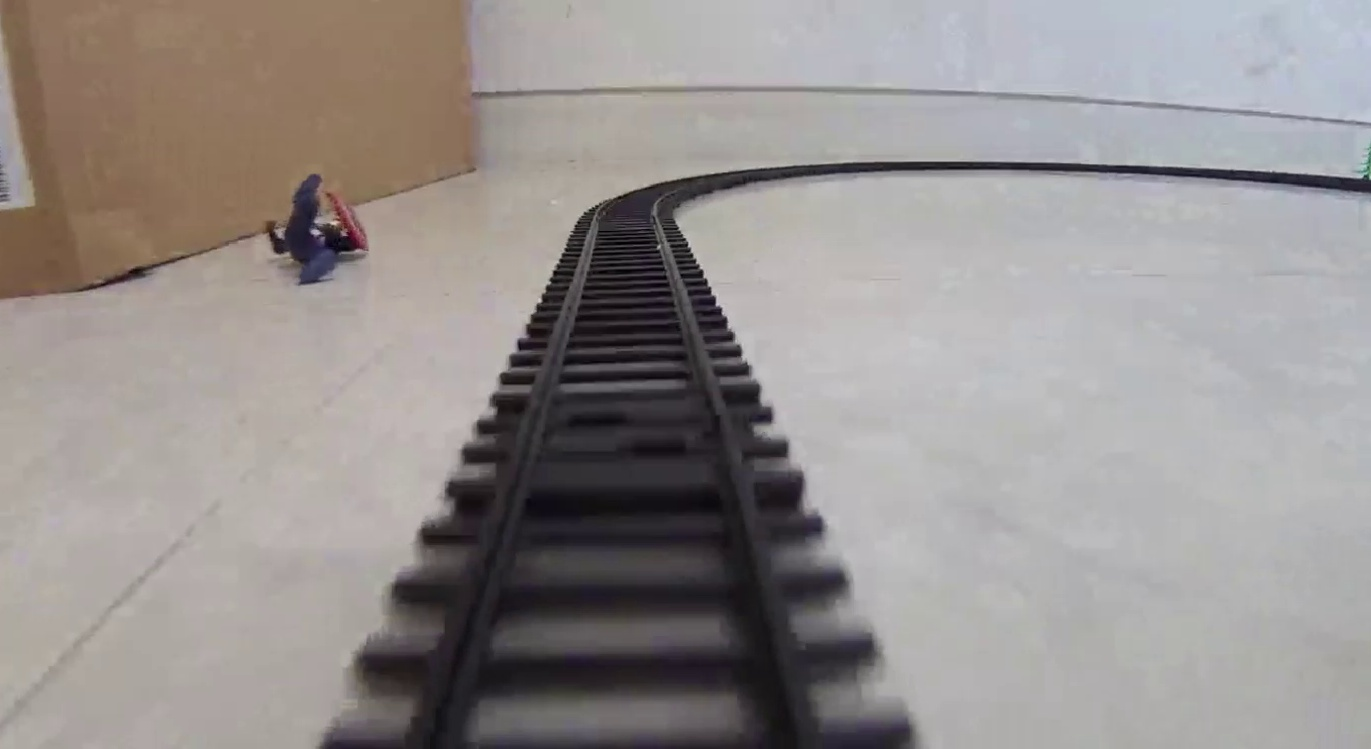people: (266, 174, 372, 286)
